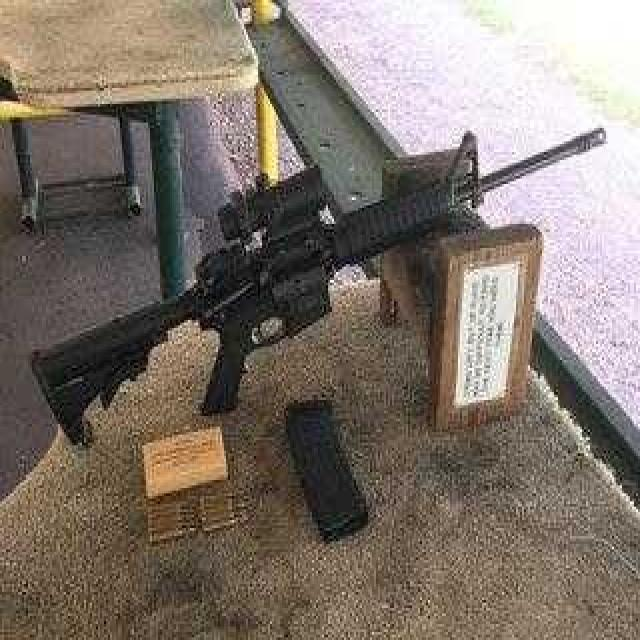heavyweapon: (27, 76, 615, 470)
